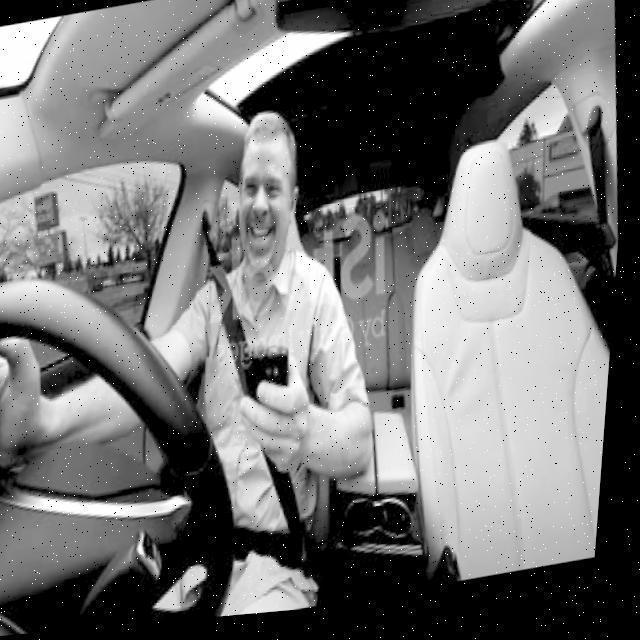PhoneCall: (240, 343, 304, 455)
